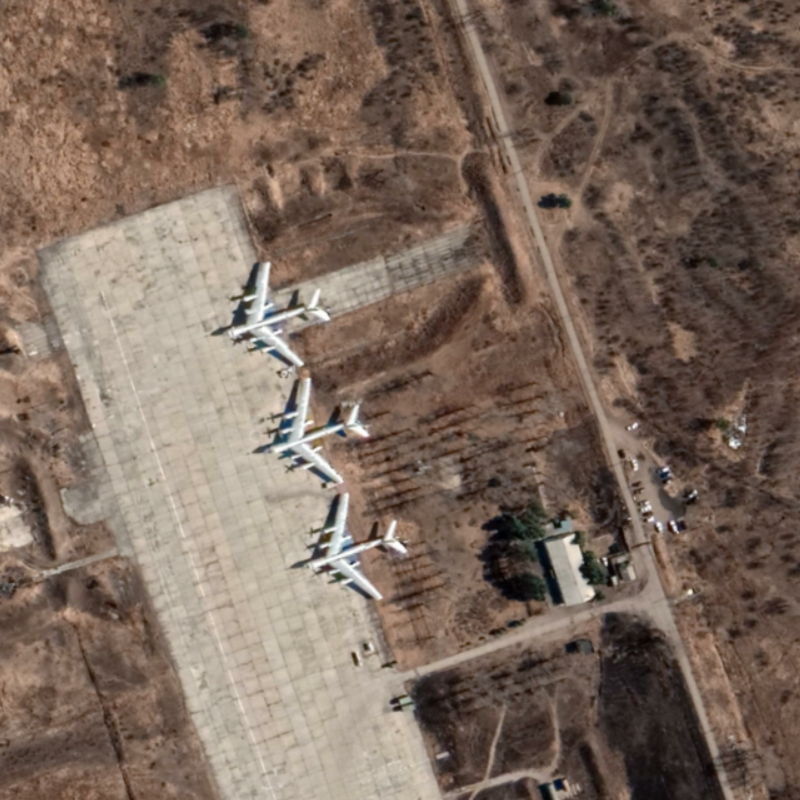A17: (299, 490, 409, 603), (260, 375, 372, 485), (222, 259, 333, 369)
